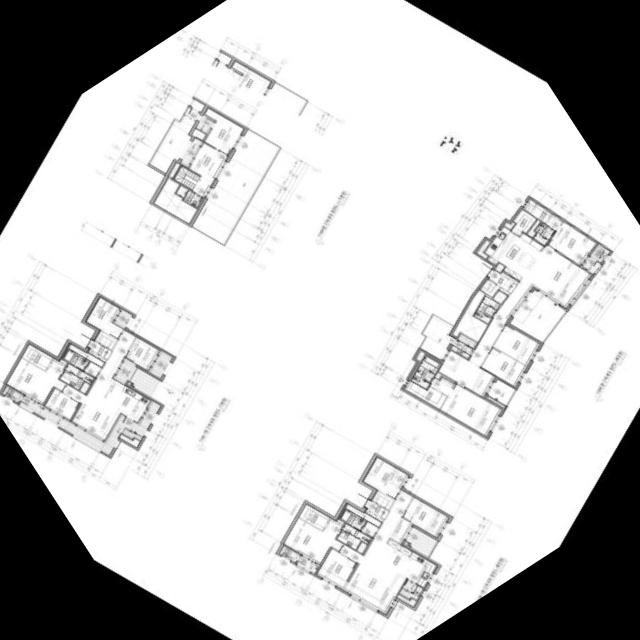background: (0, 0, 640, 640)
space_balconi: (20, 395, 160, 454), (509, 289, 566, 341), (421, 314, 453, 358), (407, 527, 437, 556), (130, 367, 160, 396), (488, 378, 515, 404), (451, 333, 477, 358), (150, 350, 172, 378), (181, 137, 201, 164), (399, 578, 423, 599), (116, 360, 135, 382), (297, 555, 318, 573), (582, 256, 601, 273), (196, 114, 213, 132), (115, 309, 132, 327)
space_bedroom: (430, 376, 501, 435), (6, 357, 66, 403), (284, 517, 343, 563), (547, 221, 596, 264), (203, 106, 244, 154), (363, 455, 408, 498), (493, 324, 539, 365), (402, 496, 448, 536), (481, 346, 526, 385), (317, 548, 356, 588), (86, 296, 123, 338), (125, 336, 160, 369), (45, 388, 79, 419)
space_dressroom: (523, 199, 563, 229), (405, 380, 446, 408), (299, 503, 330, 530), (22, 343, 53, 370)
space_front: (489, 269, 518, 294), (88, 339, 112, 361), (365, 500, 389, 521)
space_kitchen: (485, 226, 544, 280), (377, 538, 436, 586), (100, 378, 150, 421)
space_living_room: (438, 244, 591, 396), (340, 489, 413, 613), (62, 329, 136, 441), (189, 142, 227, 196)
space_other: (192, 129, 278, 242), (150, 107, 200, 172), (153, 177, 198, 223), (453, 289, 488, 341), (346, 503, 381, 526), (69, 343, 104, 366), (511, 209, 537, 234), (174, 165, 200, 189), (389, 517, 412, 543), (94, 329, 117, 349), (372, 490, 394, 509), (480, 278, 500, 296), (119, 433, 140, 446), (397, 593, 417, 606), (362, 521, 378, 537), (85, 361, 101, 377), (477, 239, 490, 258), (487, 395, 505, 407), (435, 371, 454, 382), (528, 219, 540, 236), (168, 161, 180, 177), (493, 290, 507, 303), (191, 127, 206, 139), (191, 99, 205, 111), (80, 381, 90, 393), (495, 262, 505, 272), (416, 350, 425, 360), (504, 221, 515, 229), (336, 518, 344, 524), (59, 358, 67, 364), (404, 541, 408, 544), (127, 381, 131, 384)
space_outdoor_room: (590, 243, 610, 262), (279, 545, 300, 562), (2, 385, 23, 402)
space_toilet: (337, 523, 371, 553), (411, 355, 441, 388), (60, 363, 94, 389), (474, 295, 499, 323), (176, 184, 202, 207), (340, 508, 366, 530), (63, 348, 89, 370), (534, 221, 555, 244)
